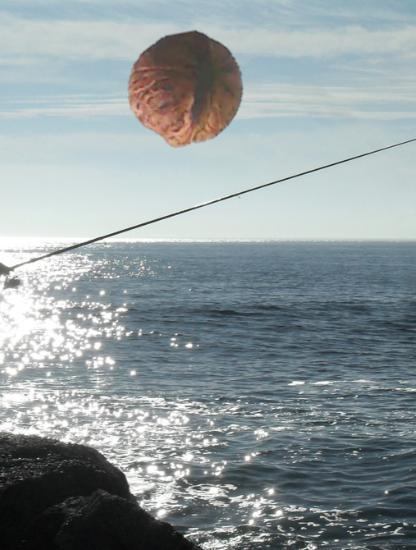Walnut: (126, 29, 245, 148)
